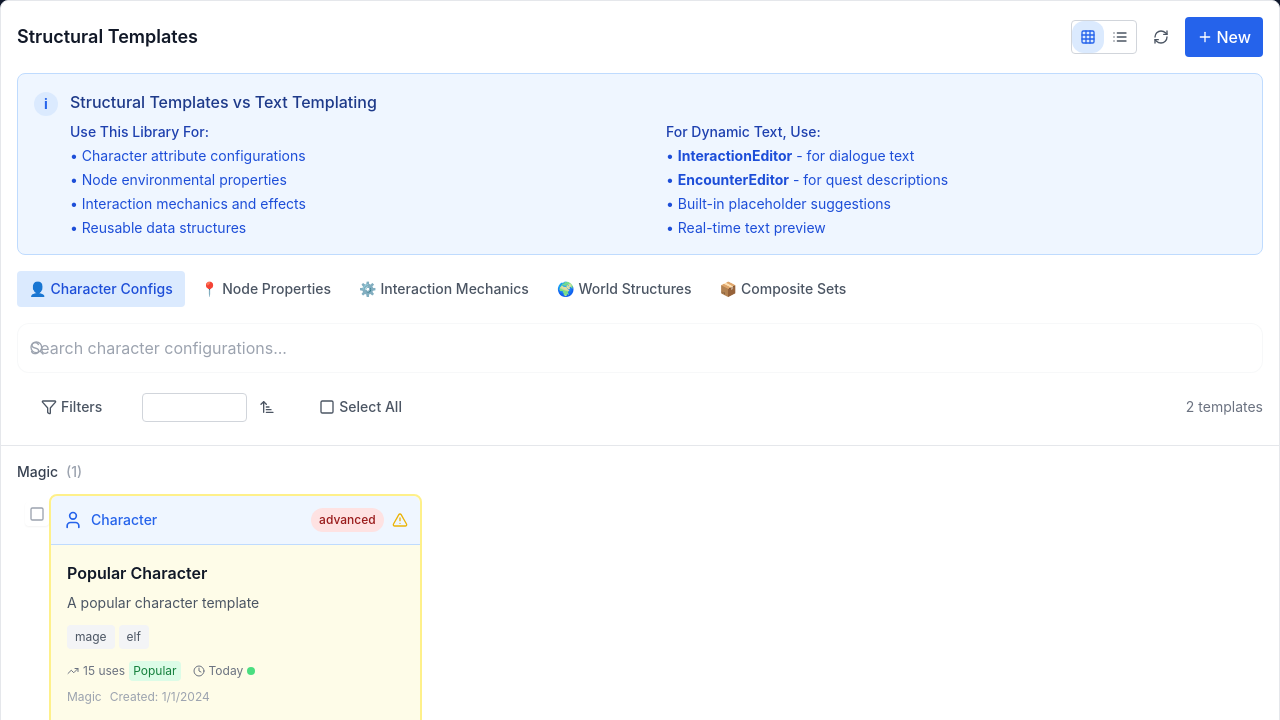
Test: TemplateLibraryPanel › handles bulk selection
Click the button "Select All" at (361, 407), box left=295, top=385, right=426, bottom=429
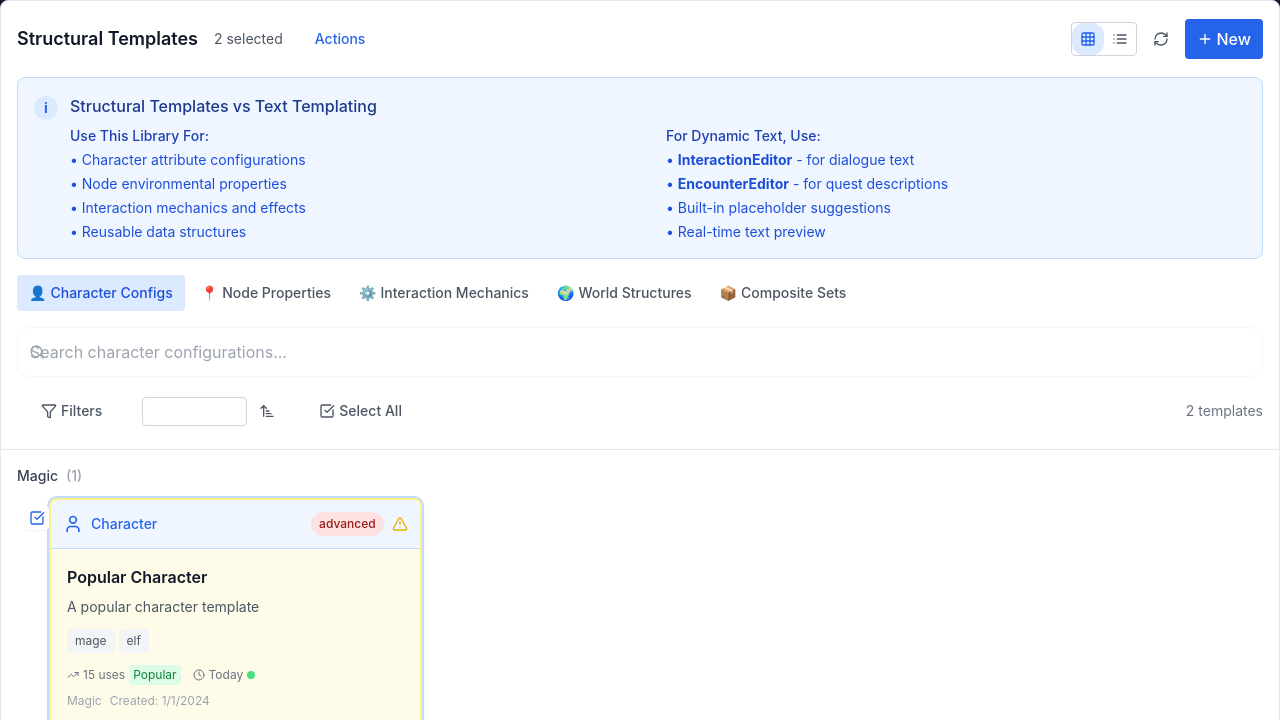
Expected: the text "2 selected" is shown, left=214, top=29, right=283, bottom=49
